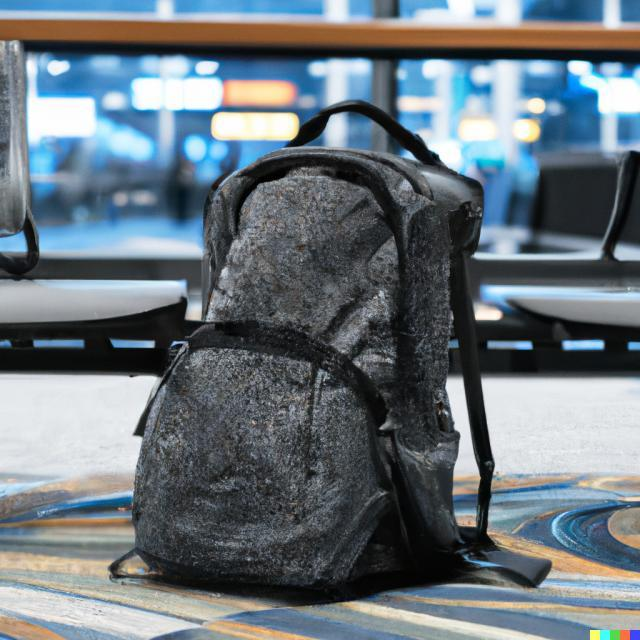Backpacks: (123, 94, 493, 604)
